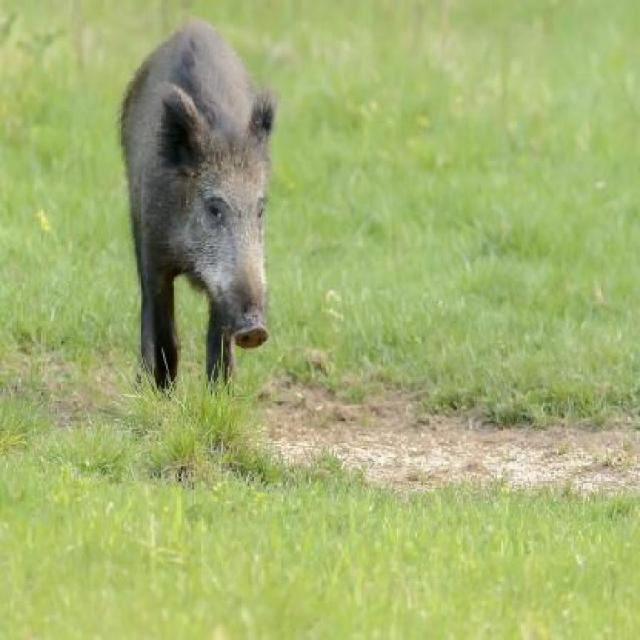Wild Boar: (113, 17, 282, 406)
